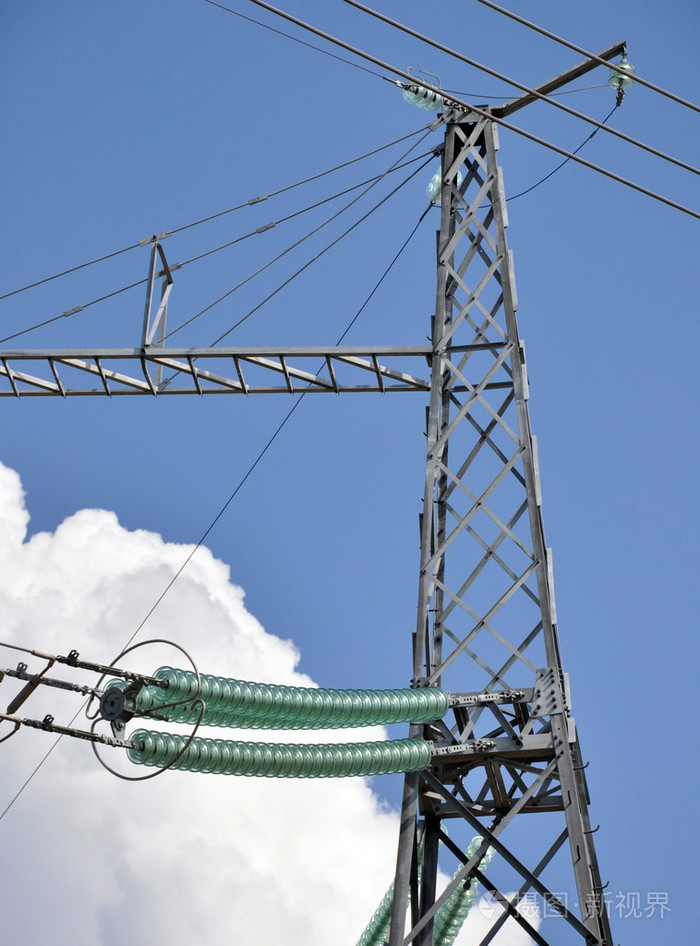insulator: (113, 662, 452, 729), (120, 726, 434, 782), (434, 838, 497, 945), (351, 881, 391, 946), (421, 166, 465, 204), (399, 77, 446, 111), (608, 58, 638, 88)
